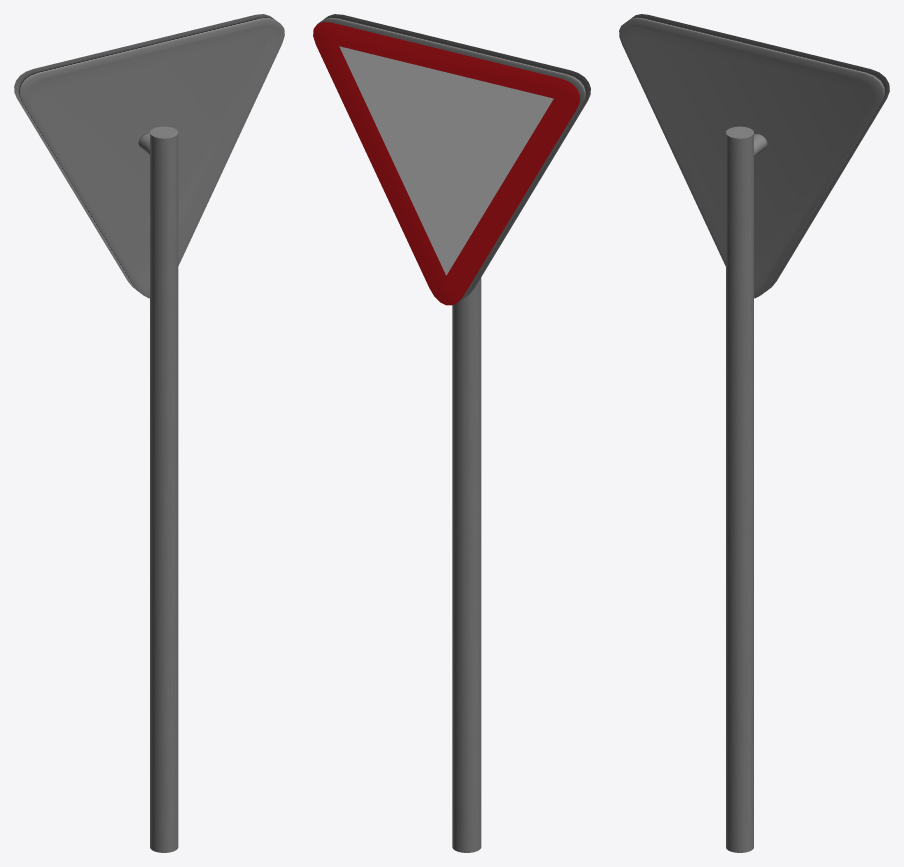
Rendered from sign_GiveWay.fbx.
3 views of the same model, side by side, from view 1: azimuth 30°, elevation 25°; view 2: azimuth 150°, elevation 25°; view 3: azimuth 330°, elevation 25° (orthographic). The views are drawn at different scales.
Visible parts, largest first — view 1: Cube.005; view 2: Cube.005; view 3: Cube.005.
Boxes of the visible parts, x1,y1,x2,y2 form: Cube.005: (14,14,284,852); Cube.005: (313,14,590,852); Cube.005: (619,14,889,852).
Size of the model in its own units: 135 by 392 by 24.24.
